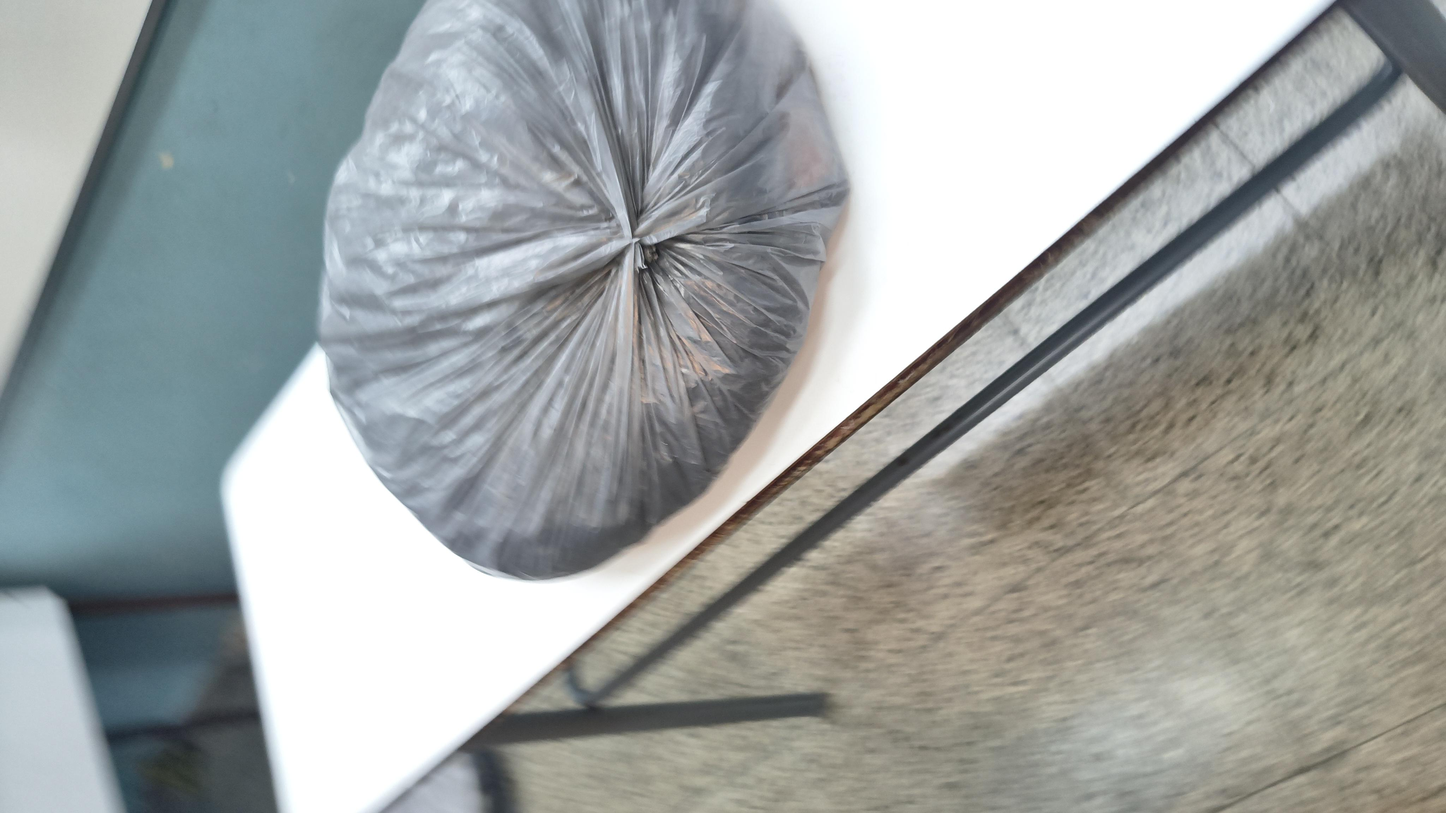Garbage: (358, 141, 1446, 486)
